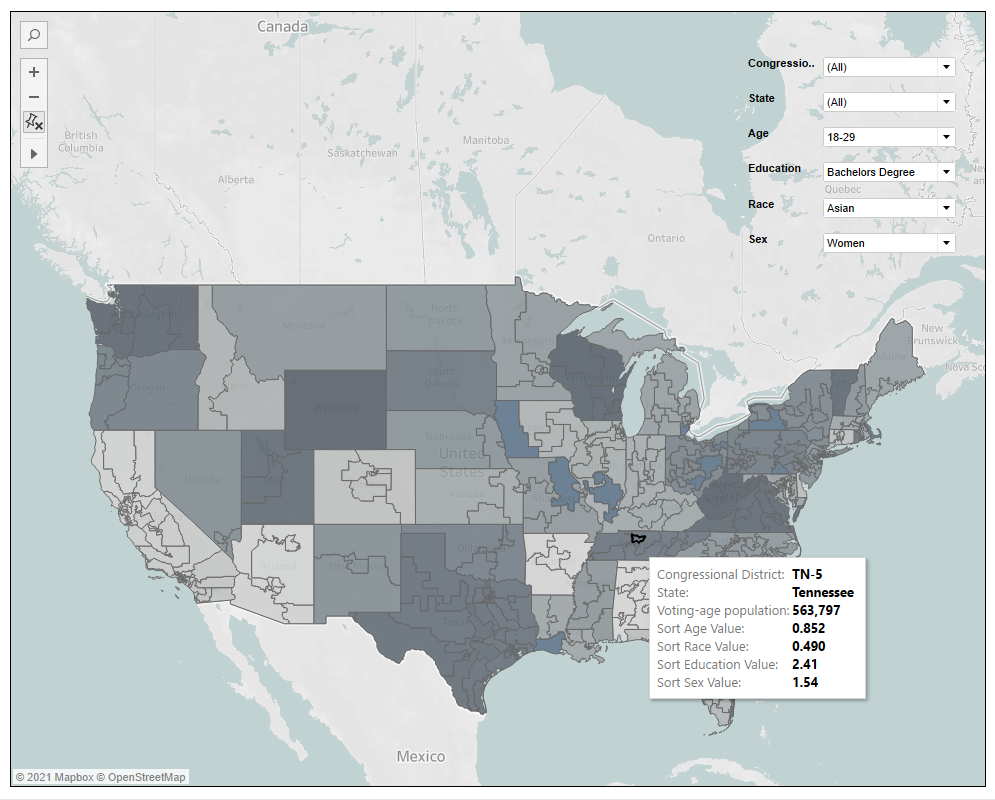

Layout of this report page (visuals, bound fields, positions):
{"tool":"tableau","page":{"name":"Dashboard 10","canvas":[1000,800],"ordinal":0},"visuals":[{"type":"worksheet","box":[0,0,1000,800]},{"type":"worksheet","param":"/Users/hallie/Desktop/Tanya capstone pics/grey_map.png","box":[8,8,984,784]},{"type":"worksheet","box":[142,174,463,183]},{"type":"worksheet","box":[204,352,630,75]},{"type":"worksheet","box":[877,756,108,38]}]}

Visuals, with their boxes in screenshot pixels (x1, y1, x2, y2), scaled from the page's 1000x800 canvas onto the 995x800 screenshot:
worksheet: box(0, 0, 994, 799)
worksheet: box(8, 8, 987, 792)
worksheet: box(141, 174, 602, 357)
worksheet: box(203, 352, 830, 427)
worksheet: box(873, 756, 980, 794)
